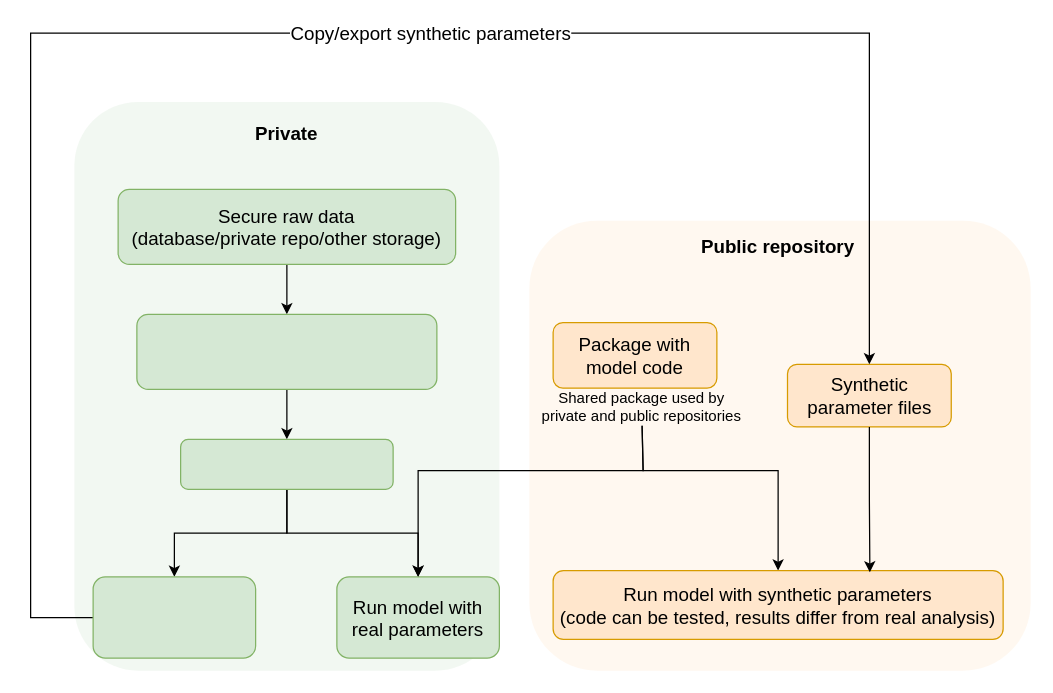
Image size: 1053x693. Some labels were removed from this diagram. The shapes that lost their labels are listed below. From the top down, each one's box as (x1, y1, x2, y2) in pixels, then its label:
(136, 313, 437, 389): Input modelling code (estimate parameters on real data)
(179, 438, 393, 489): Real parameter files
(92, 576, 256, 658): Generate synthetic parameters
